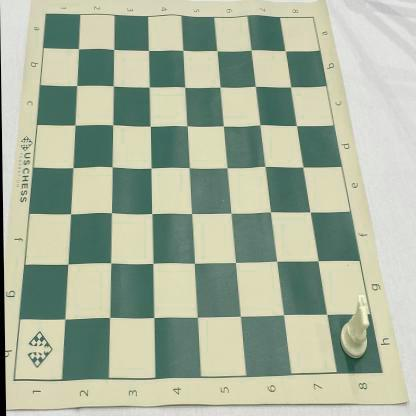white-knight: (339, 295, 370, 360)
